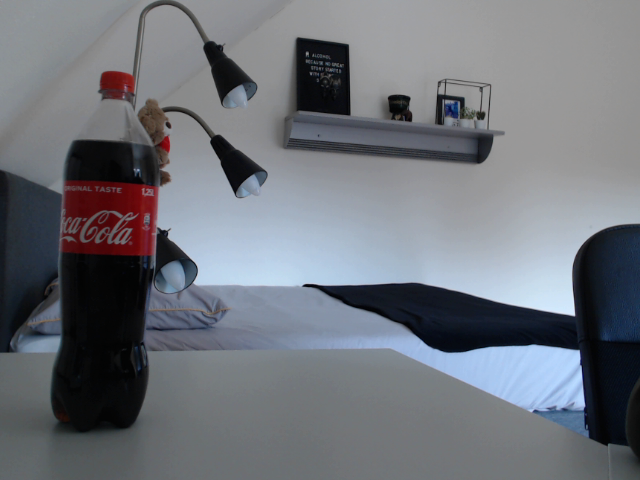bottle: (51, 71, 162, 432)
